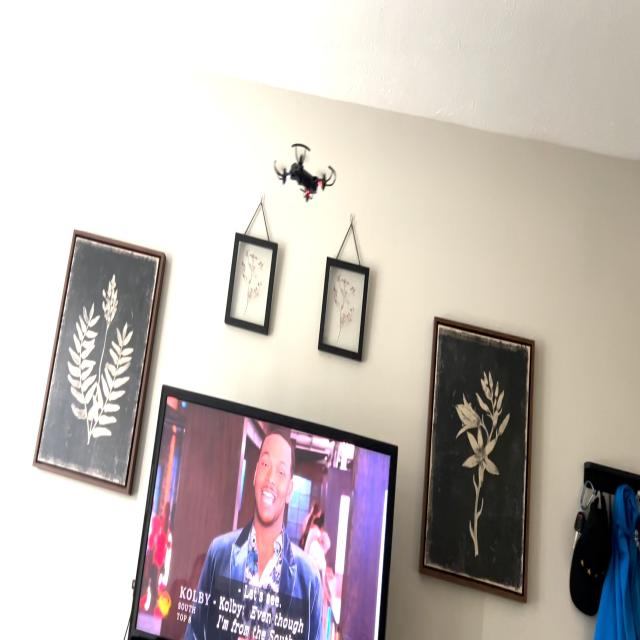drone: (263, 126, 345, 209)
